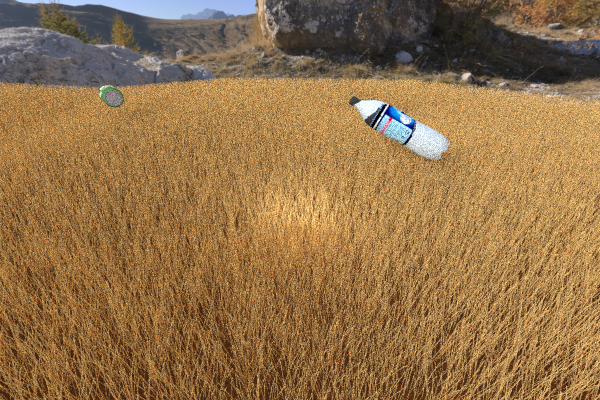Plastic Bottle: (349, 96, 449, 160), (87, 121, 175, 174), (98, 85, 123, 107)
